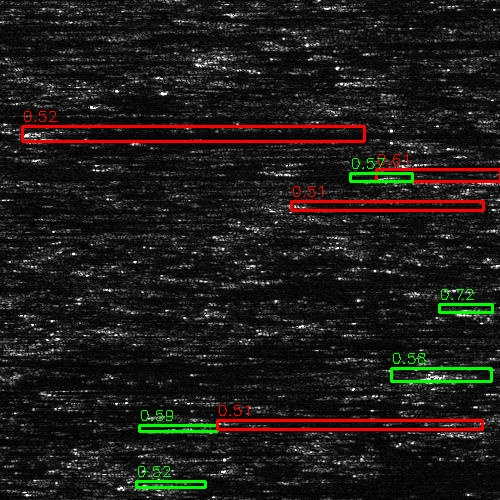rock: (0, 125, 141, 142), (245, 40, 360, 49), (440, 304, 500, 311), (64, 393, 85, 412), (325, 79, 398, 84), (54, 386, 95, 393), (129, 481, 182, 486), (432, 161, 443, 166), (0, 206, 14, 209)
shadow: (37, 125, 421, 142), (0, 356, 191, 371), (0, 109, 109, 126), (303, 40, 468, 49), (75, 386, 273, 393), (75, 393, 139, 412), (362, 79, 500, 84), (156, 481, 289, 486), (0, 187, 79, 194), (0, 191, 60, 200), (0, 206, 131, 209), (438, 161, 500, 166), (0, 23, 91, 26), (0, 172, 34, 177)
